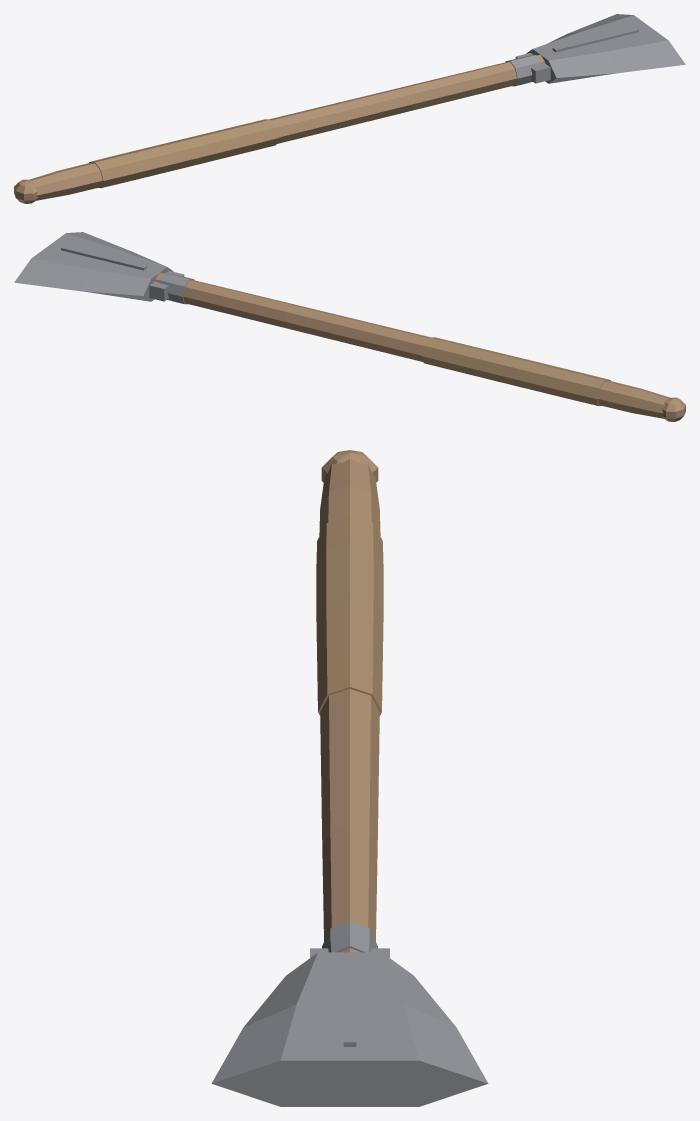
The model's file is 16-Crafting_azada.glb.
3 renders of one model, top to bottom at view 1: azimuth 30°, elevation 25°; view 2: azimuth 150°, elevation 25°; view 3: azimuth 270°, elevation 25°, orthographic. The views are drawn at different scales.
Parts seen in each view (by area): view 1: SM_Azada_M_Azada_Madera, SM_Azada_M_Azada_Hierro, SM_Azada_M_Azada_Cuero; view 2: SM_Azada_M_Azada_Madera, SM_Azada_M_Azada_Hierro, SM_Azada_M_Azada_Cuero; view 3: SM_Azada_M_Azada_Hierro, SM_Azada_M_Azada_Madera, SM_Azada_M_Azada_Cuero.
Part boxes in pixels (box(x1,y1,x2,y2)): SM_Azada_M_Azada_Madera: box(14, 55, 544, 203); SM_Azada_M_Azada_Hierro: box(505, 14, 685, 86); SM_Azada_M_Azada_Cuero: box(89, 119, 278, 188); SM_Azada_M_Azada_Madera: box(155, 273, 685, 421); SM_Azada_M_Azada_Hierro: box(14, 232, 194, 304); SM_Azada_M_Azada_Cuero: box(421, 337, 610, 406); SM_Azada_M_Azada_Hierro: box(211, 921, 488, 1106); SM_Azada_M_Azada_Madera: box(319, 450, 380, 952); SM_Azada_M_Azada_Cuero: box(316, 516, 383, 715).
Size of the model in its own units: 1.38 by 0.055 by 0.26.
